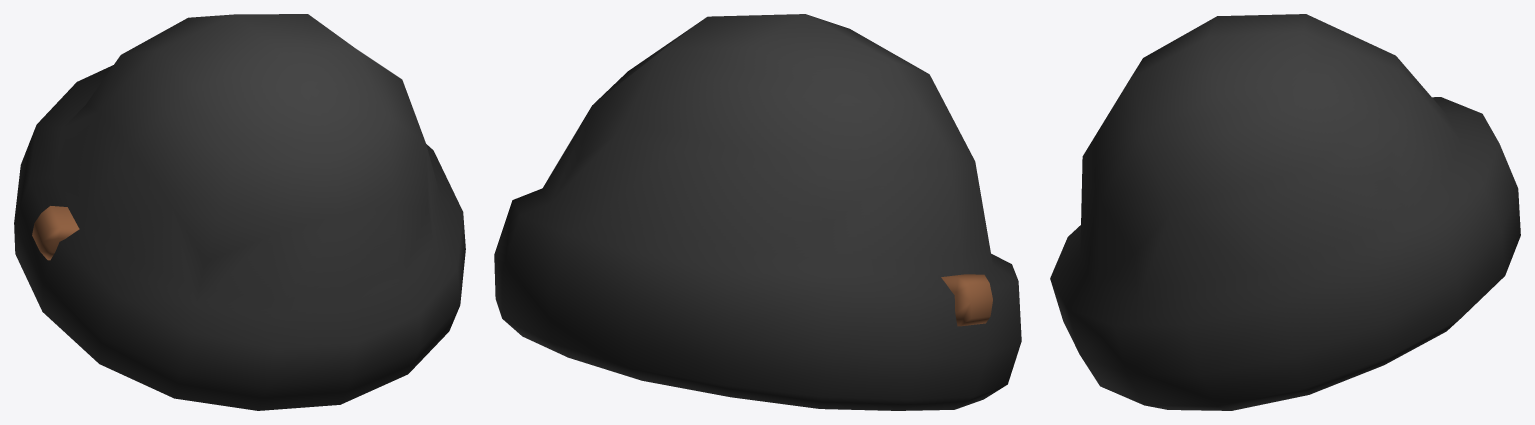
Rendered from Headgear_3.fbx.
3 views of the same model, side by side, from view 1: azimuth 30°, elevation 25°; view 2: azimuth 150°, elevation 25°; view 3: azimuth 270°, elevation 25° (orthographic). The views are drawn at different scales.
Parts seen in each view (by area): view 1: Headgear_3; view 2: Headgear_3; view 3: Headgear_3.
Part boxes in pixels (bbox=[...]): Headgear_3: bbox=[14, 14, 465, 410]; Headgear_3: bbox=[494, 14, 1021, 410]; Headgear_3: bbox=[1050, 14, 1520, 410].
Size of the model in its own units: 91.52 by 70.65 by 91.21.
